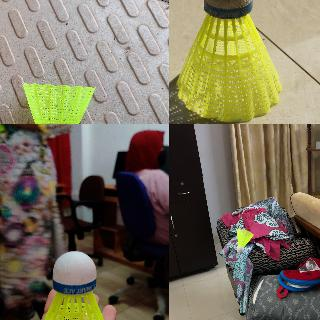shuttlecock: (177, 0, 282, 122), (22, 250, 118, 319), (23, 83, 96, 123), (237, 230, 253, 252)
